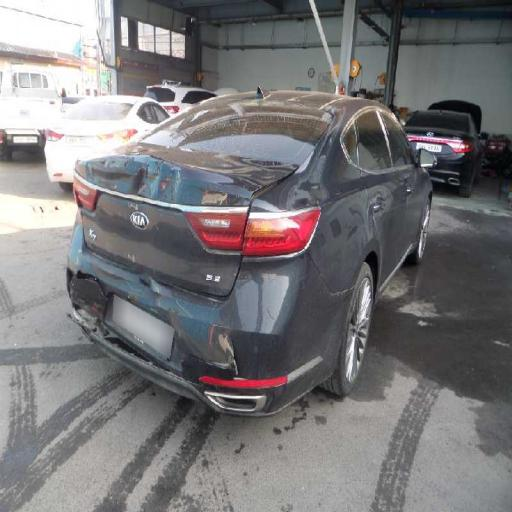broken: (54, 222, 260, 418)
dent: (71, 140, 263, 210)
